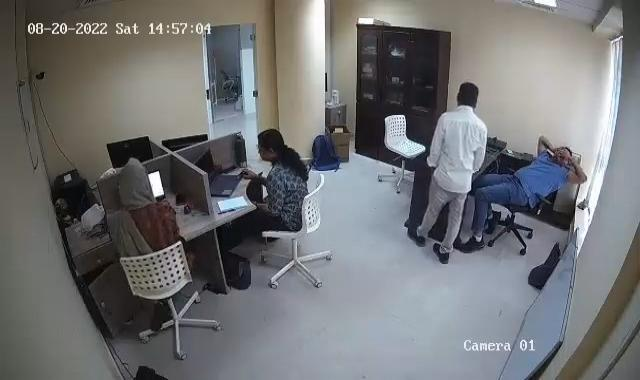no_hairnet: (116, 158, 156, 207), (449, 82, 484, 114), (255, 128, 286, 164)
